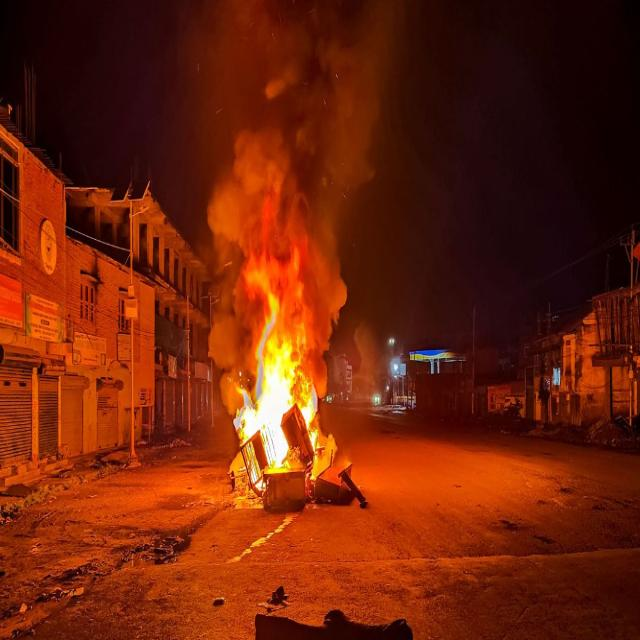fire: (258, 289, 318, 467), (233, 384, 258, 445)
